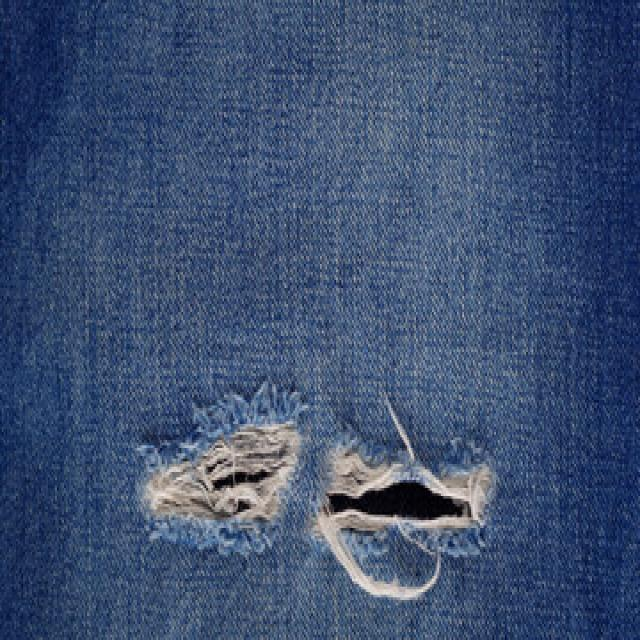Hole: (314, 433, 497, 600), (145, 424, 300, 520)
